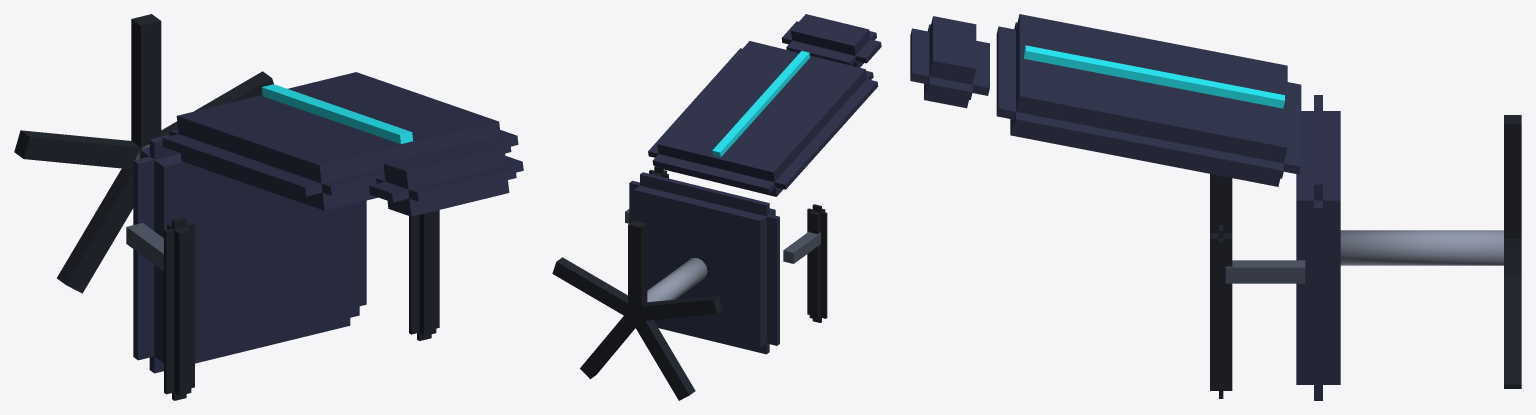
File: shooter-chair.glb
3 views of the same model, side by side, from view 1: azimuth 30°, elevation 25°; view 2: azimuth 150°, elevation 25°; view 3: azimuth 270°, elevation 25° (orthographic). The views are drawn at different scales.
Parts seen in each view (by area): view 1: Model Mesh; view 2: Model Mesh; view 3: Model Mesh.
Part boxes in pixels (x1=…): Model Mesh: x1=14, y1=14, x2=523, y2=400; Model Mesh: x1=552, y1=14, x2=881, y2=400; Model Mesh: x1=910, y1=14, x2=1521, y2=400.
Bounding box in the file's own units: 0.67 × 0.7967 × 1.38.
Materials: 2 (2 with a texture image).
